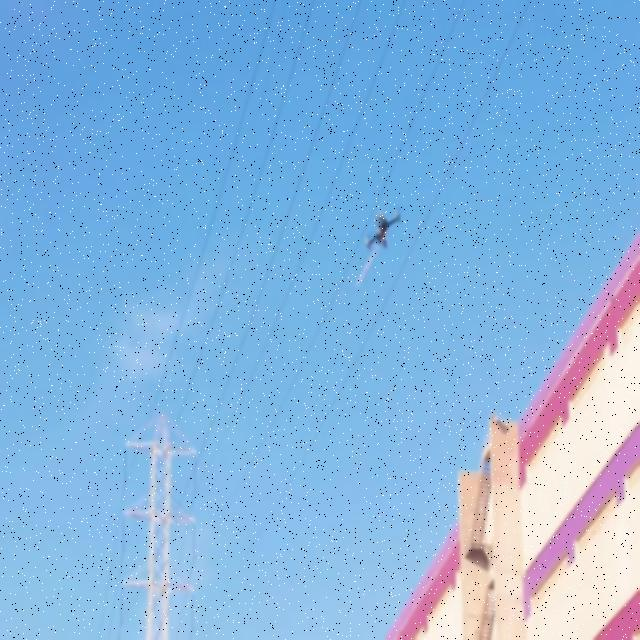UAV: (365, 208, 401, 252)
